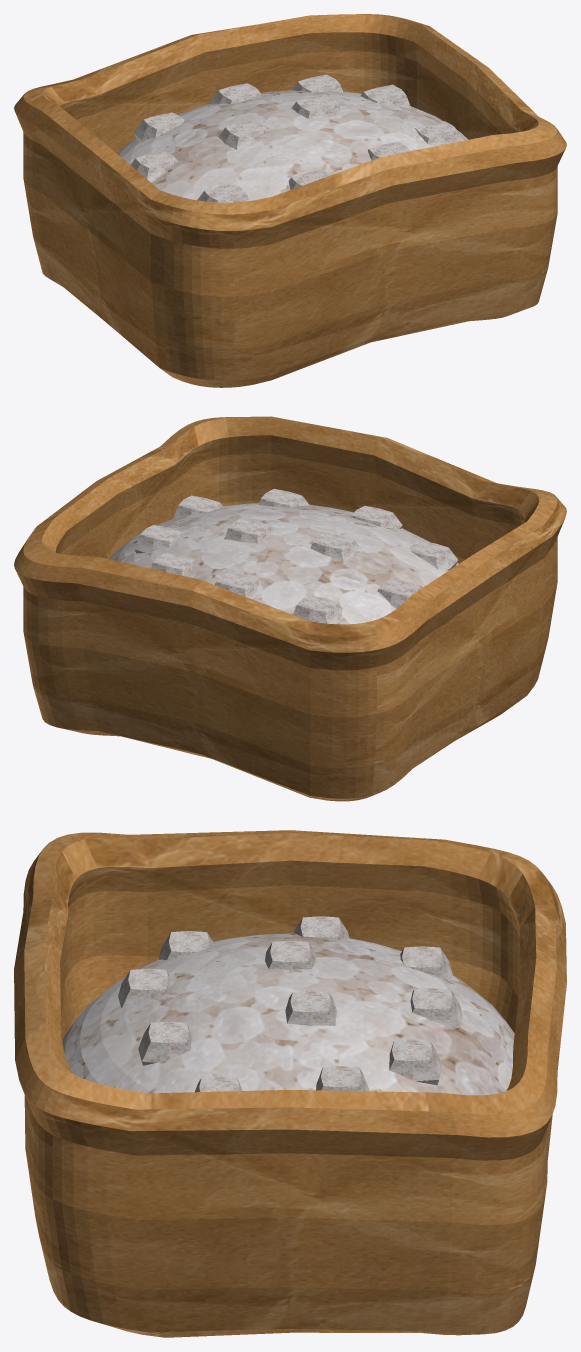
The model's file is salt.obj.
The picture shows the model from 3 angles, top to bottom: view 1: azimuth 30°, elevation 25°; view 2: azimuth 150°, elevation 25°; view 3: azimuth 270°, elevation 25°; orthographic projection. The views are drawn at different scales.
Visible parts, largest first — view 1: paper, salt, crystal_5, crystal_4, crystal_6, crystal_8, crystal_3, crystal_7, crystal_9, crystal_0, crystal_10; view 2: paper, salt, crystal_8, crystal_5, crystal_7, crystal_0, crystal_6, crystal_9, crystal_4, crystal_1, crystal_10, crystal_3 (+1 smaller); view 3: paper, salt, crystal_10, crystal_2, crystal_6, crystal_9, crystal_1, crystal_5, crystal_8, crystal_7, crystal_0, crystal_4 (+1 smaller).
Part boxes in pixels (x1,y1,x2,y2): paper: (14,14,566,387); salt: (117,90,468,200); crystal_5: (218,120,270,149); crystal_4: (130,151,177,182); crystal_6: (291,94,342,118); crystal_8: (133,112,184,140); crystal_3: (415,121,461,146); crystal_7: (360,84,411,108); crystal_9: (208,83,261,104); crystal_0: (197,184,249,202); crystal_10: (291,74,343,92); paper: (14,416,566,801); salt: (109,503,458,624); crystal_8: (293,596,342,624); crystal_5: (310,532,360,561); crystal_7: (134,525,182,553); crystal_0: (409,540,458,570); crystal_6: (224,518,273,543); crystal_9: (215,572,259,599); crystal_4: (377,579,421,608); crystal_1: (351,505,402,528); crystal_10: (150,552,194,576); crystal_3: (173,495,222,518); paper: (14,830,566,1337); salt: (62,933,514,1095); crystal_10: (389,1039,442,1085); crystal_2: (138,1021,191,1065); crystal_6: (285,990,336,1025); crystal_9: (410,988,462,1029); crystal_1: (118,968,170,1008); crystal_5: (265,940,316,969); crystal_8: (400,946,452,980); crystal_7: (316,1065,369,1091); crystal_0: (158,931,212,959); crystal_4: (293,916,349,939).
Bounding box in the file's own units: 116 × 58.82 × 100.
